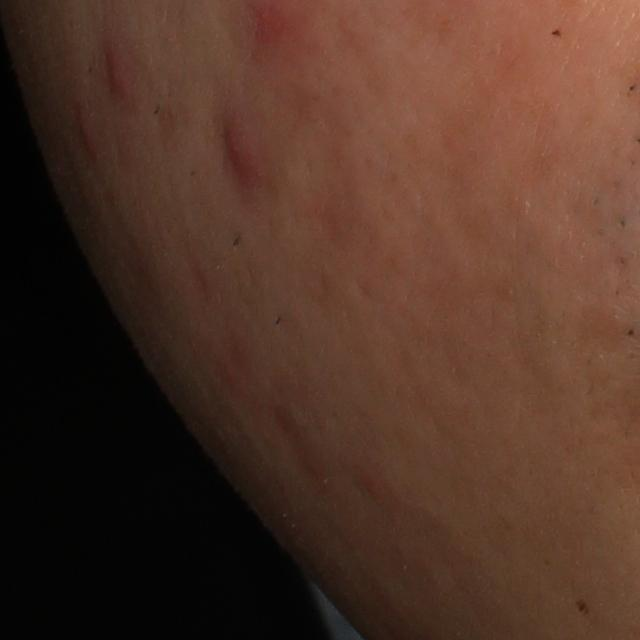papule: (224, 109, 262, 179), (74, 108, 101, 153)
